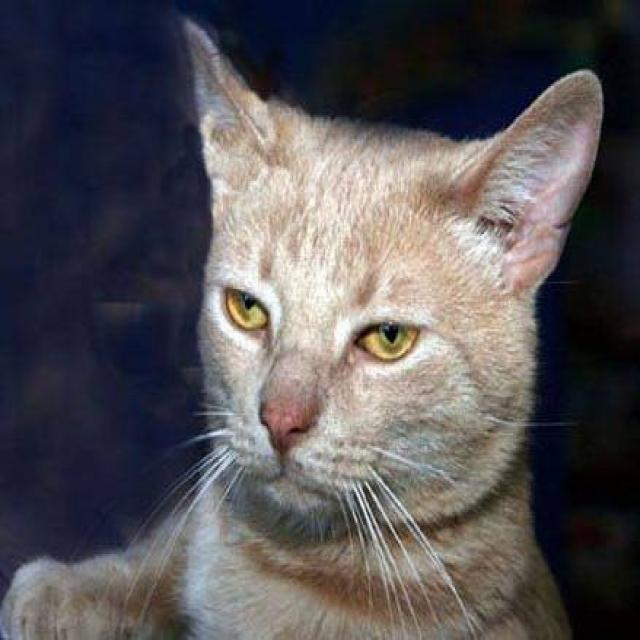cat: (0, 15, 604, 638)
